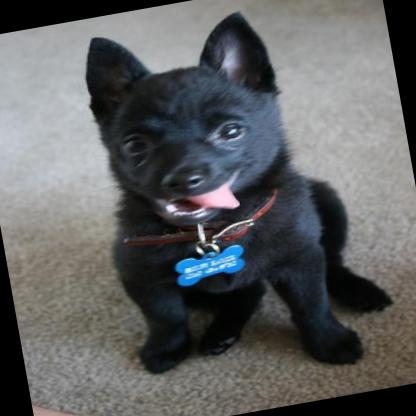schipperke: (69, 0, 401, 399)
